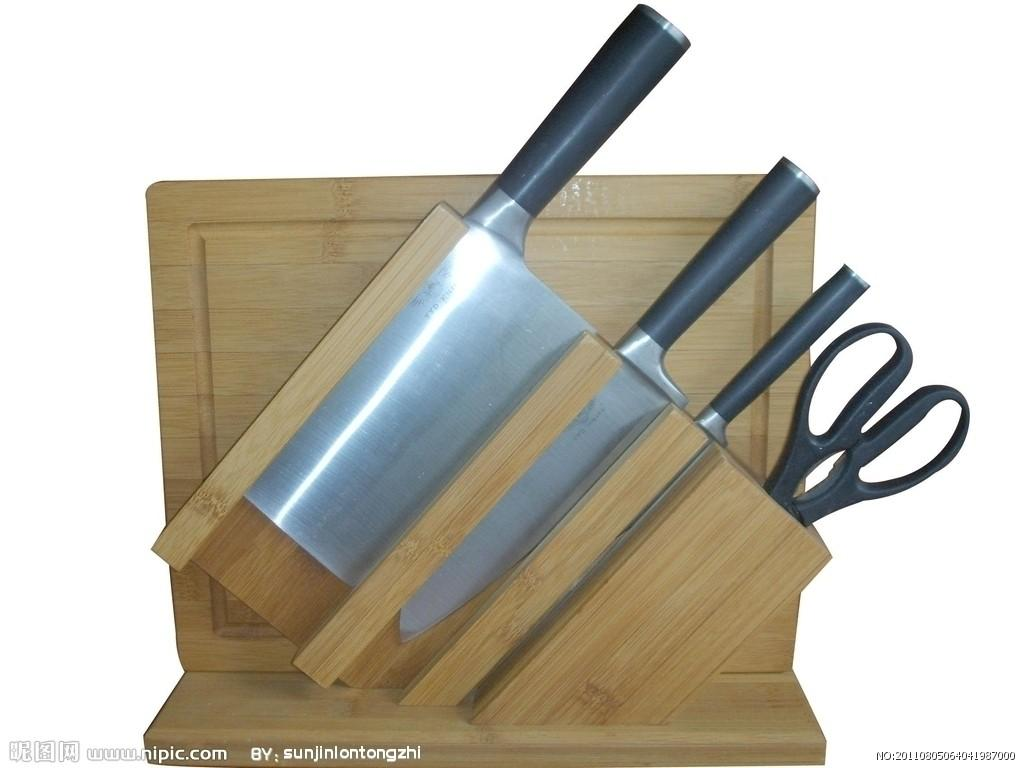knife: (188, 9, 713, 726)
